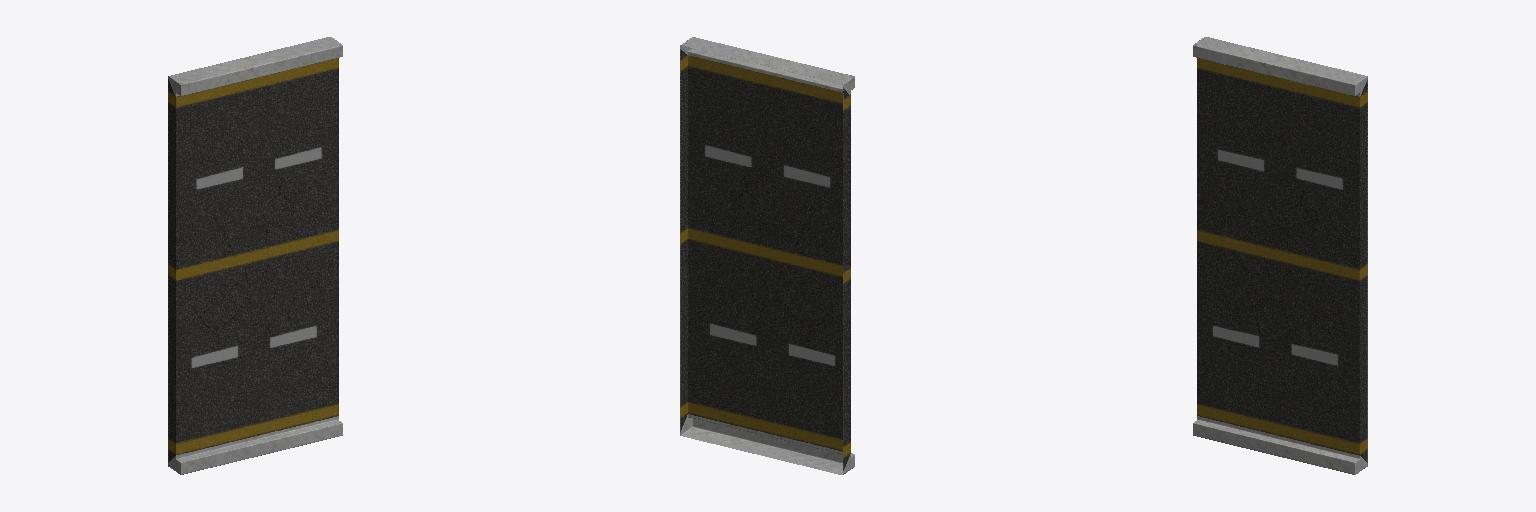
3 views of the same model, side by side, from view 1: azimuth 30°, elevation 25°; view 2: azimuth 150°, elevation 25°; view 3: azimuth 330°, elevation 25° (orthographic).
Visible parts, largest first — view 1: roadSection; view 2: roadSection; view 3: roadSection.
Boxes of the visible parts, x1,y1,x2,y2 form: roadSection: [168, 37, 342, 474]; roadSection: [680, 37, 854, 474]; roadSection: [1193, 37, 1367, 474].
Bounding box in the file's own units: 315 × 722 × 40.59.
Materials: 1 (1 with a texture image).